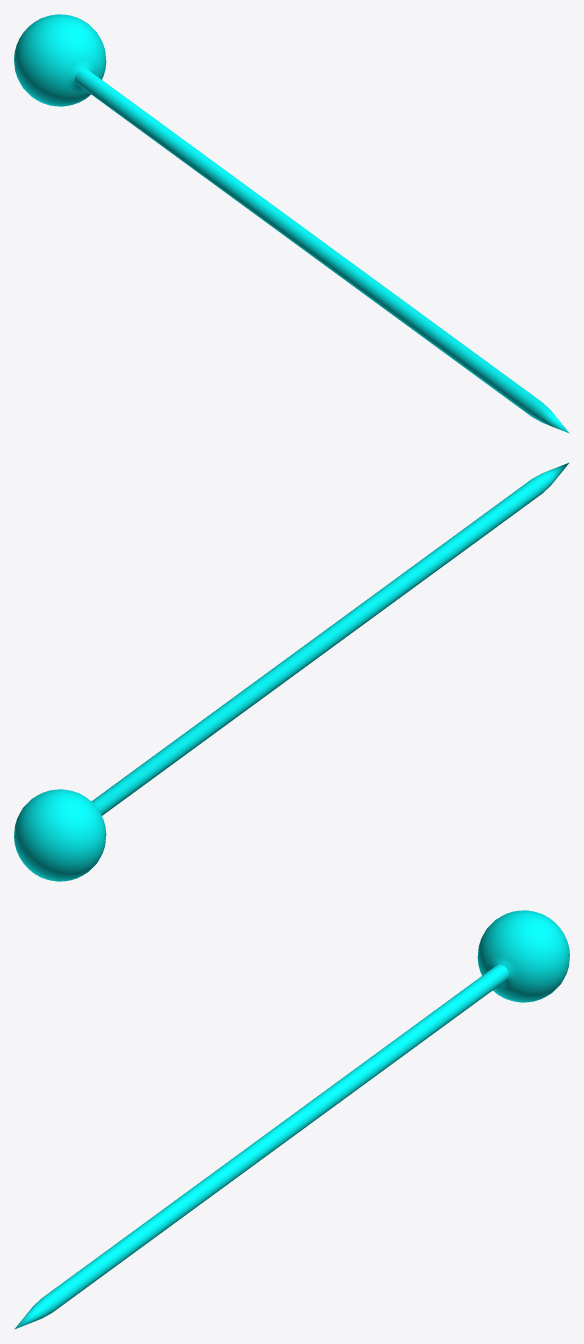
Rendered from CYAN.glb.
3 renders of one model, top to bottom at view 1: azimuth 30°, elevation 25°; view 2: azimuth 150°, elevation 25°; view 3: azimuth 330°, elevation 25°, orthographic.
Parts seen in each view (by area): view 1: Sphere; view 2: Sphere; view 3: Sphere.
Part boxes in pixels (left/top/right/bottom): Sphere: left=14, top=14, right=569, bottom=433; Sphere: left=14, top=462, right=569, bottom=881; Sphere: left=14, top=910, right=569, bottom=1329.
Size of the model in its own units: 0.02 by 0.02 by 0.2305.
